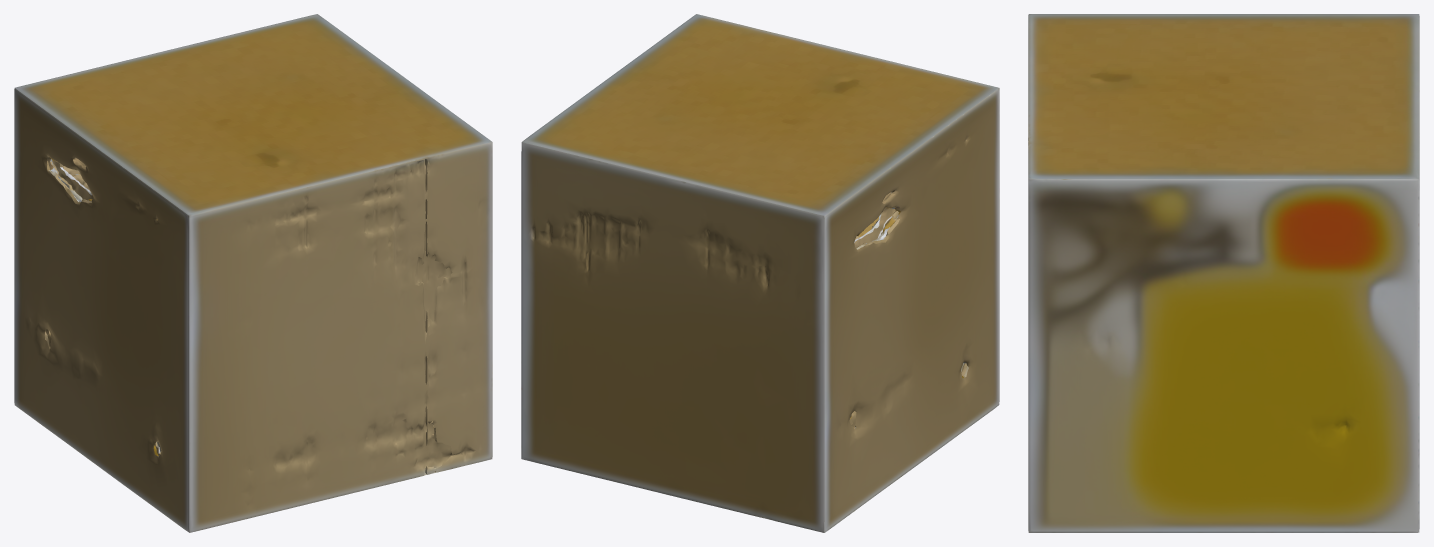
Rendered from cocktail.glb.
The picture shows the model from 3 angles, left to right: view 1: azimuth 30°, elevation 25°; view 2: azimuth 150°, elevation 25°; view 3: azimuth 270°, elevation 25°; orthographic projection. The views are drawn at different scales.
Visible parts, largest first — view 1: tmpw8xdv9_3.ply; view 2: tmpw8xdv9_3.ply; view 3: tmpw8xdv9_3.ply.
Boxes of the visible parts, <box> form: tmpw8xdv9_3.ply: <box>14,14,492,532</box>; tmpw8xdv9_3.ply: <box>521,14,999,532</box>; tmpw8xdv9_3.ply: <box>1028,14,1419,532</box>.
Size of the model in its own units: 0.9879 by 0.988 by 0.988.
Materials: 1 (1 with a texture image).
